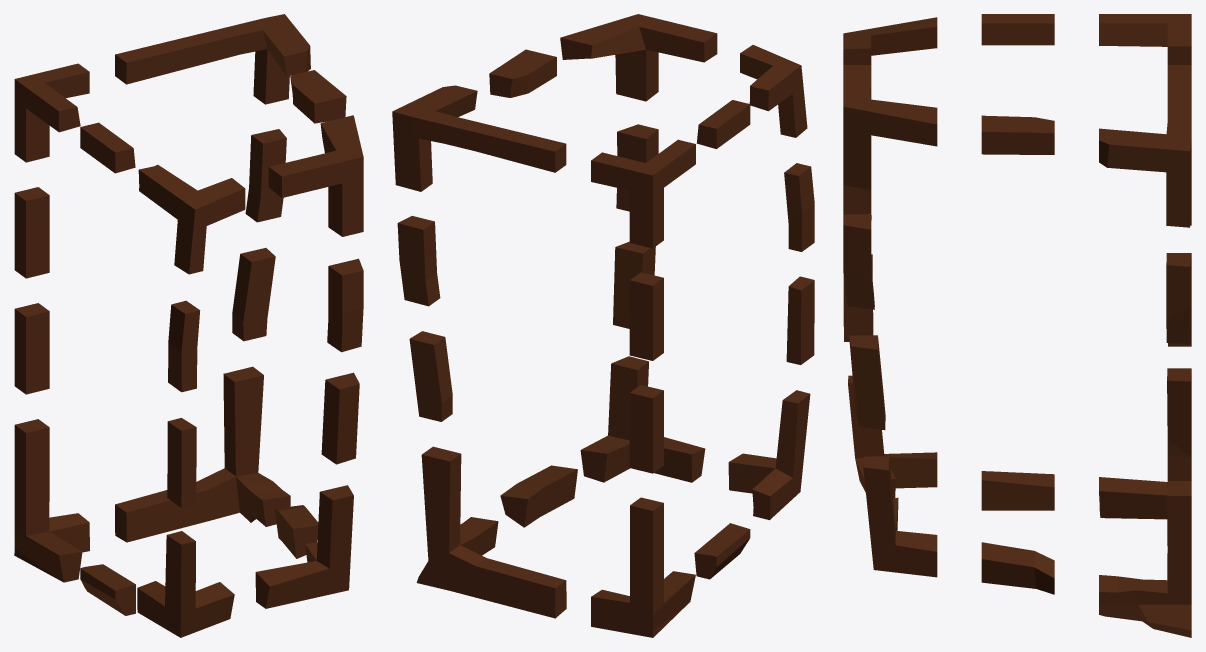
Rendered from HarvatiOutlineNEW.gltf.
The picture shows the model from 3 angles, left to right: view 1: azimuth 30°, elevation 25°; view 2: azimuth 150°, elevation 25°; view 3: azimuth 270°, elevation 25°; orthographic projection. The views are drawn at different scales.
Visible parts, largest first — view 1: Cube.006; view 2: Cube.006; view 3: Cube.006.
Boxes of the visible parts, box(x1,y1,x2,y2) form: Cube.006: box(14, 14, 363, 637); Cube.006: box(392, 14, 814, 637); Cube.006: box(843, 14, 1191, 637).
Size of the model in its own units: 0.547 by 0.9326 by 0.5863.
1 material, 1 textured.
